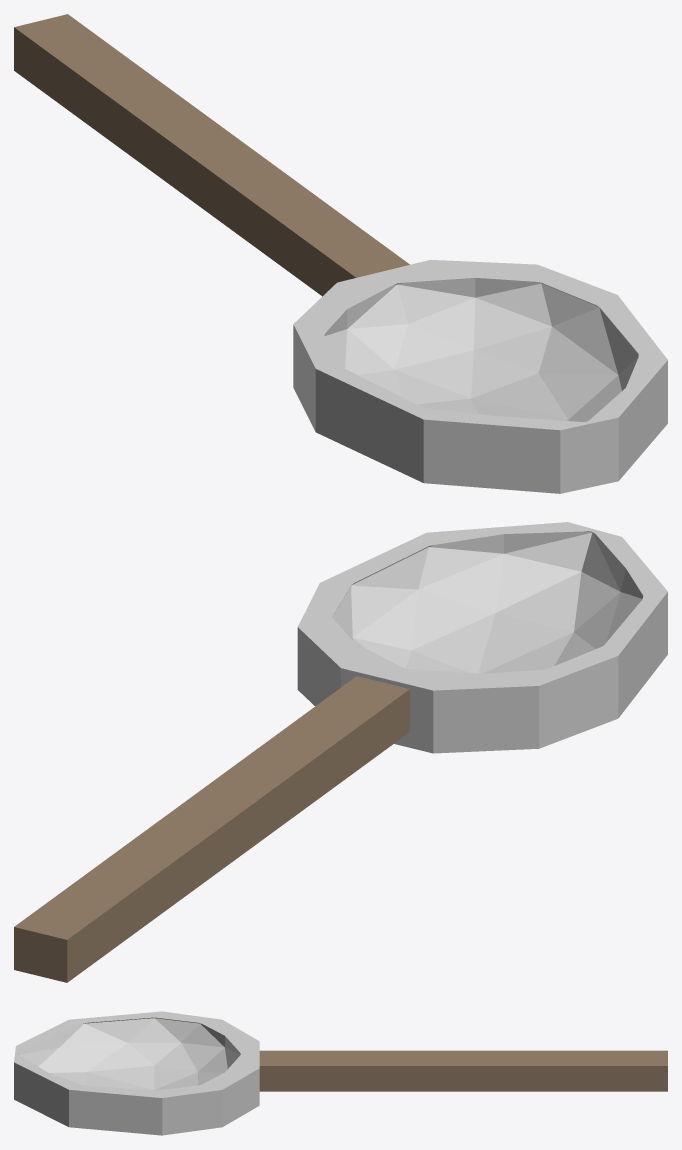
Rendered from food7.fbx.
3 views of the same model, one above another, from view 1: azimuth 30°, elevation 25°; view 2: azimuth 150°, elevation 25°; view 3: azimuth 270°, elevation 25° (orthographic). The views are drawn at different scales.
Visible parts, largest first — view 1: Boole; view 2: Boole; view 3: Boole.
Part boxes in pixels (<box>): Boole: <box>14,14,667,493</box>; Boole: <box>14,522,667,982</box>; Boole: <box>14,1011,667,1135</box>.
Size of the model in its own units: 4.73 by 0.9526 by 15.07.
